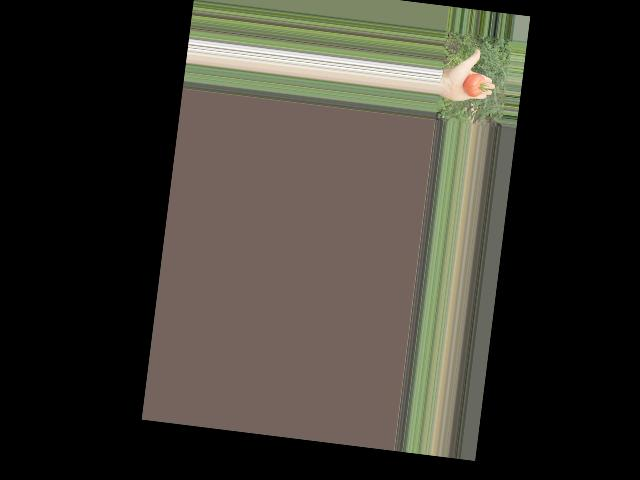tomato: (462, 72, 485, 98)
